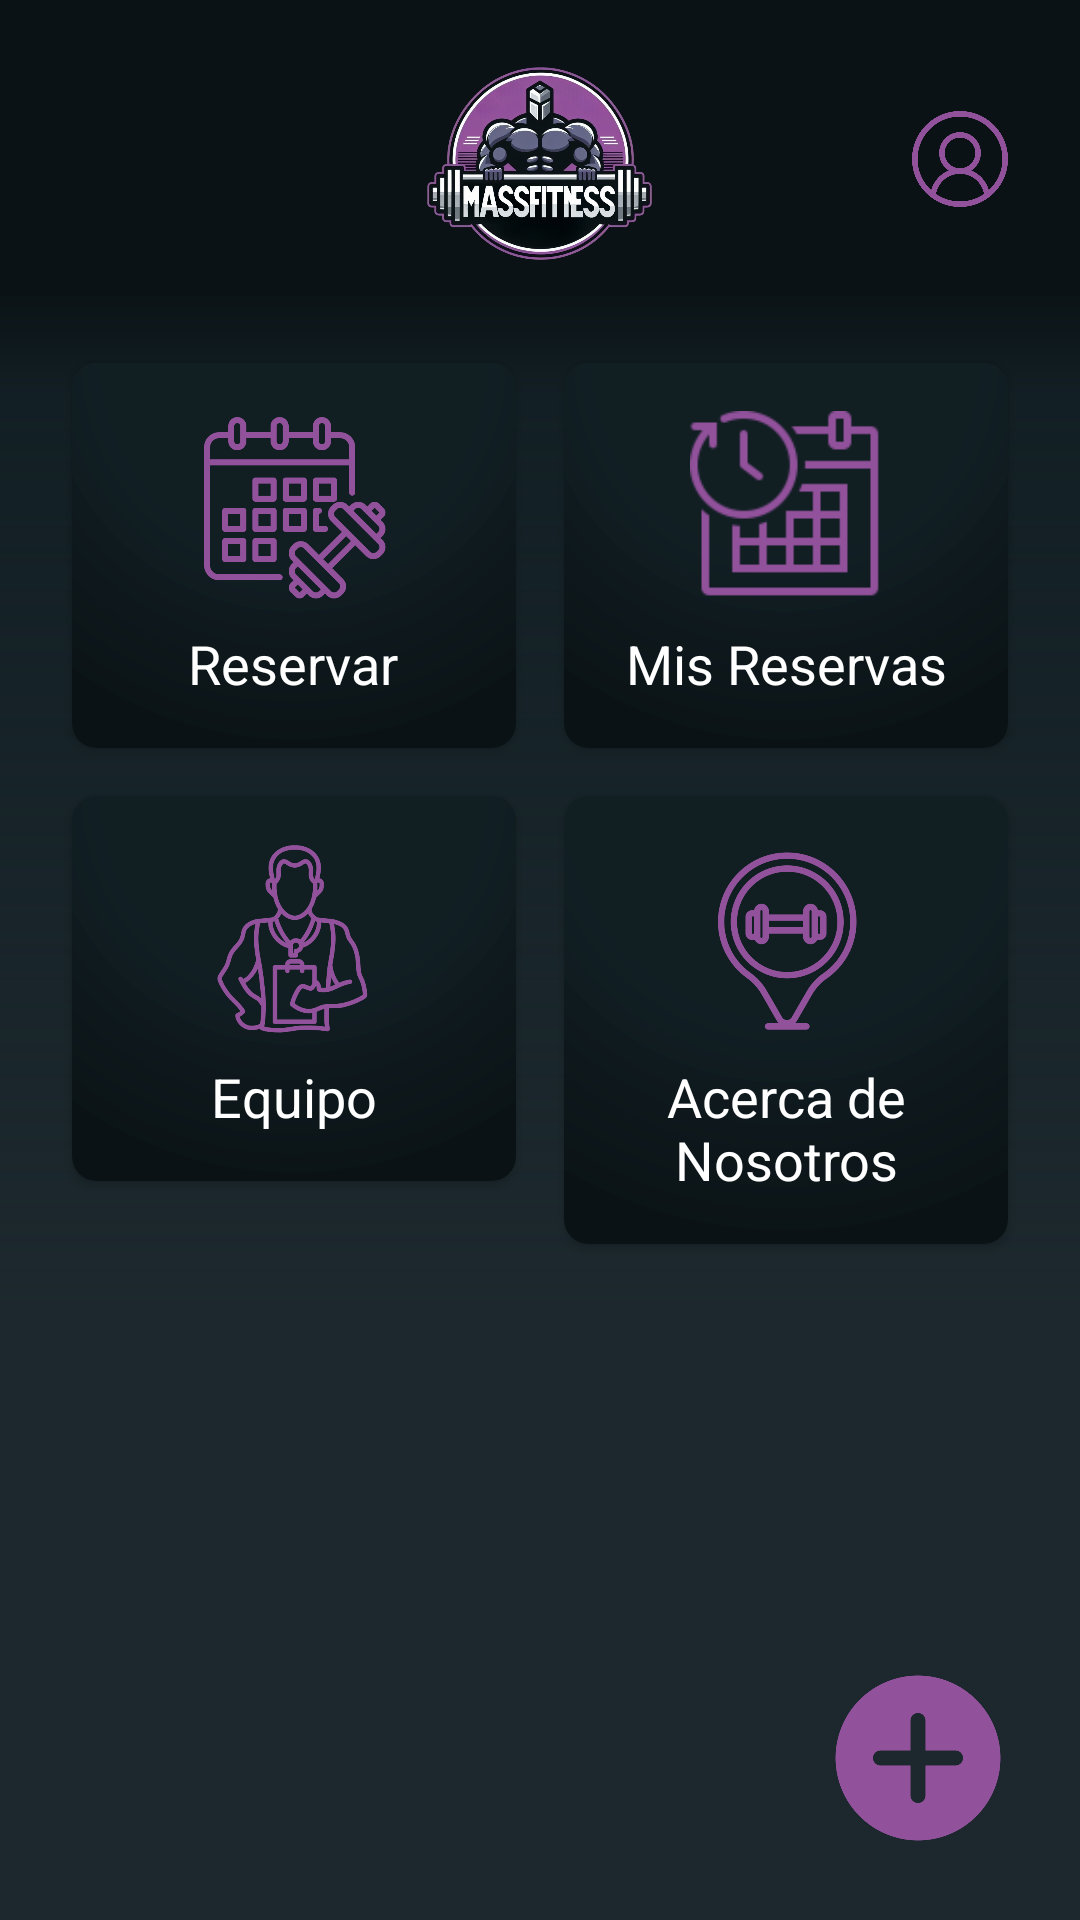

Icon bounding boxes for this 1080x1920 phone screenshot, format (x1, y1, x2, y2):
add: (835, 1675, 1001, 1841)
user: (912, 111, 1008, 207)
